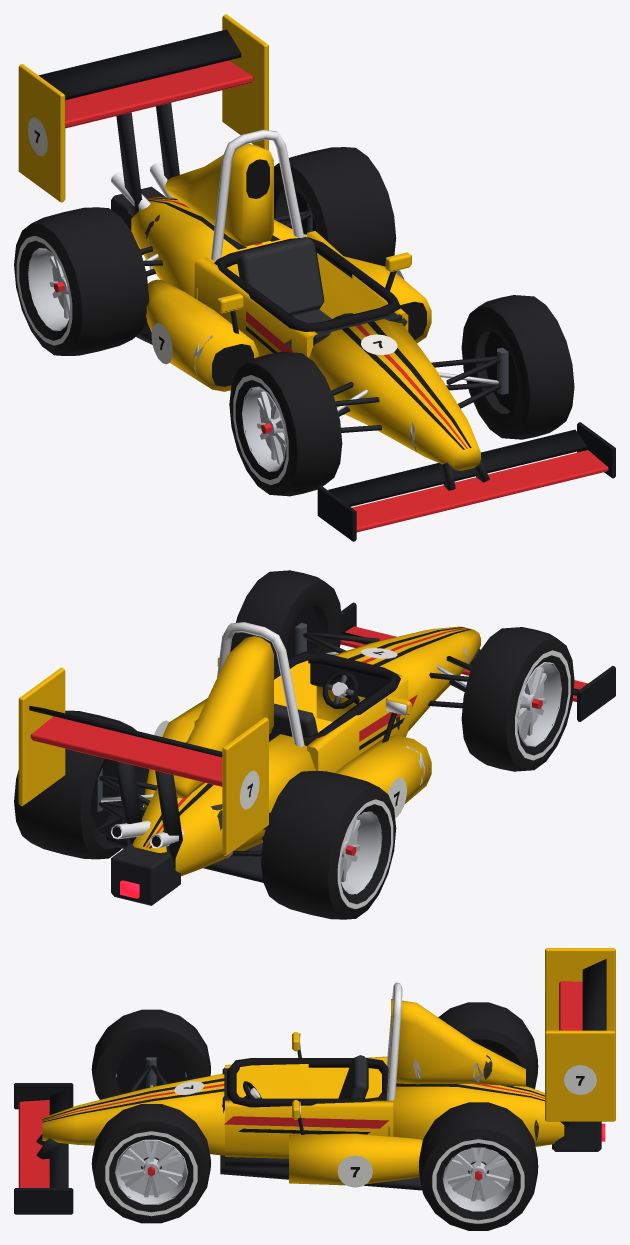
File: race_car.glb
3 views of the same model, one above another, from view 1: azimuth 30°, elevation 25°; view 2: azimuth 150°, elevation 25°; view 3: azimuth 270°, elevation 25° (orthographic). The views are drawn at different scales.
Visible parts, largest first — view 1: Body, WheelRR, WheelFR, WheelFL, WheelRL; view 2: Body, WheelRR, WheelFR, WheelRL, WheelFL, Steering; view 3: Body, WheelRL, WheelFL, WheelFR, WheelRR.
Part boxes in pixels (x1,y1,x2,y2): Body: [18, 14, 615, 541]; WheelRR: [14, 207, 148, 355]; WheelFR: [229, 351, 342, 496]; WheelFL: [461, 295, 574, 439]; WheelRL: [274, 147, 396, 266]; Body: [18, 602, 615, 905]; WheelRR: [261, 771, 396, 919]; WheelFR: [461, 627, 574, 771]; WheelRL: [14, 710, 148, 859]; WheelFL: [230, 570, 342, 668]; Steering: [322, 671, 358, 708]; Body: [14, 948, 615, 1214]; WheelRL: [418, 1102, 538, 1230]; WheelFL: [91, 1104, 211, 1223]; WheelFR: [91, 1009, 210, 1099]; WheelRR: [438, 1002, 538, 1088].
Size of the model in its own units: 1.3 by 0.8442 by 2.54.
